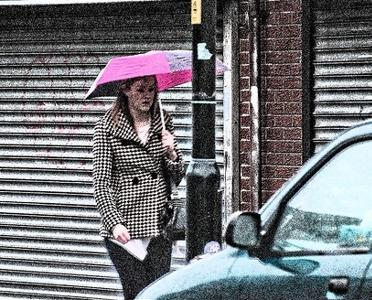person: (94, 75, 187, 300)
